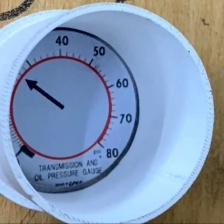gauge: (10, 28, 138, 193)
